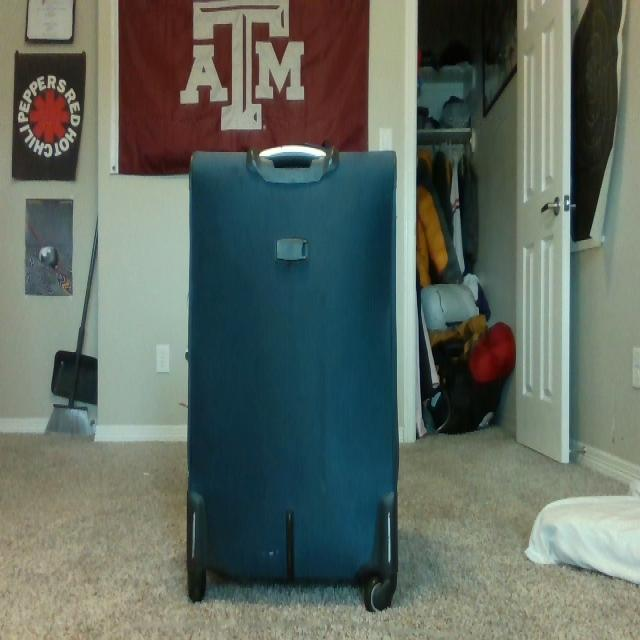suitcase: (184, 142, 402, 612)
